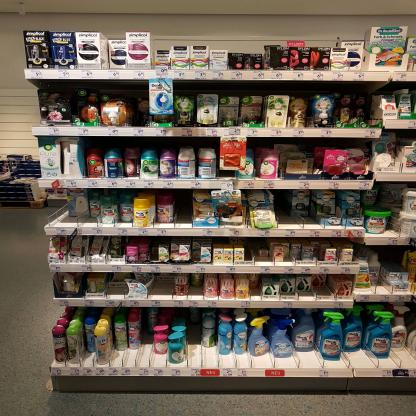Void: (176, 80, 380, 96), (84, 138, 216, 149), (190, 349, 259, 367), (101, 79, 148, 97), (275, 195, 294, 226), (116, 347, 155, 362), (380, 248, 404, 267), (176, 192, 189, 224), (348, 354, 372, 367), (300, 353, 322, 367), (154, 284, 172, 300), (244, 240, 268, 250), (394, 352, 410, 366), (189, 284, 204, 298), (298, 220, 322, 227)
